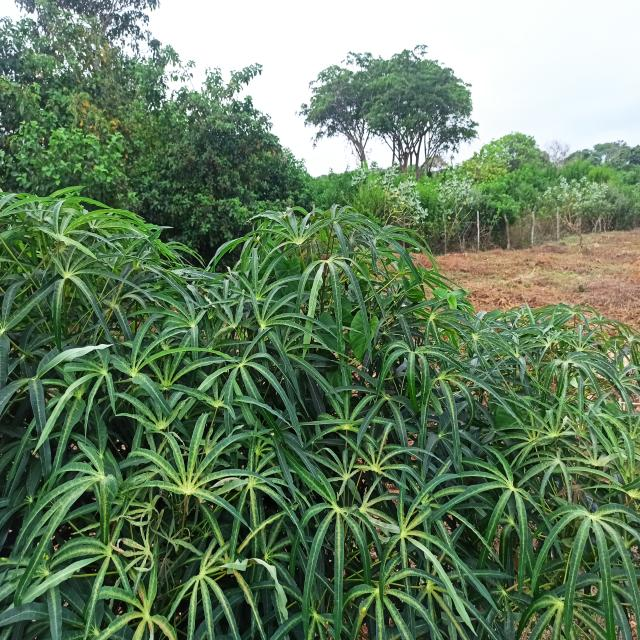Mosca: (53, 598, 77, 612), (11, 382, 30, 399), (229, 341, 243, 361), (410, 454, 424, 474), (495, 435, 511, 449), (322, 555, 336, 569), (173, 607, 187, 621), (364, 366, 376, 381), (358, 472, 369, 488)
